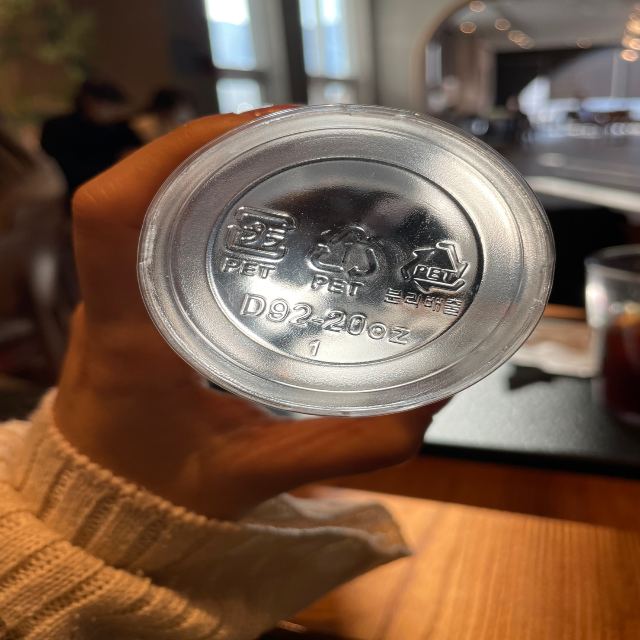pet: (383, 236, 471, 320), (212, 201, 297, 282), (302, 219, 377, 300)
